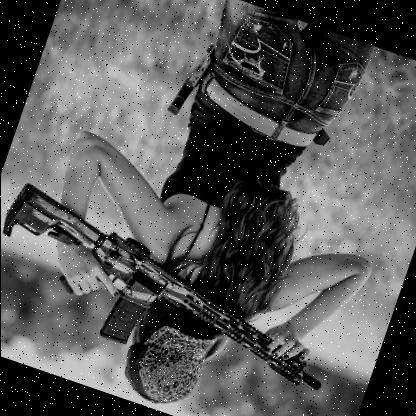rifle: (0, 162, 356, 416), (161, 34, 221, 126)
